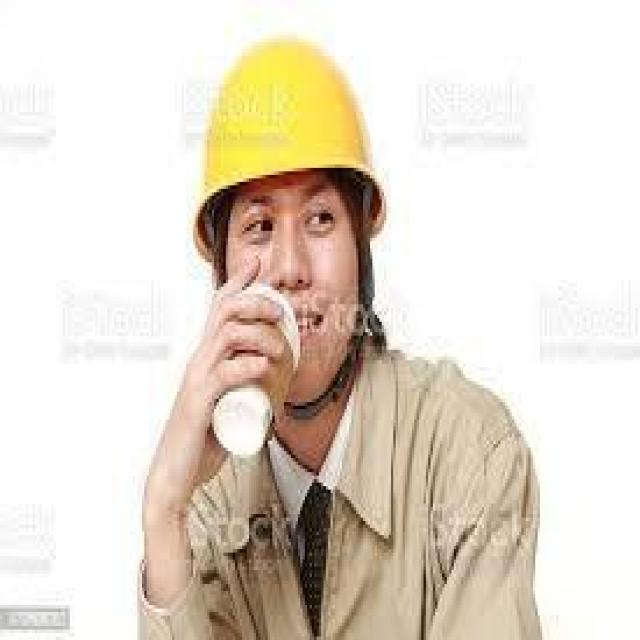hat: (193, 39, 389, 263)
